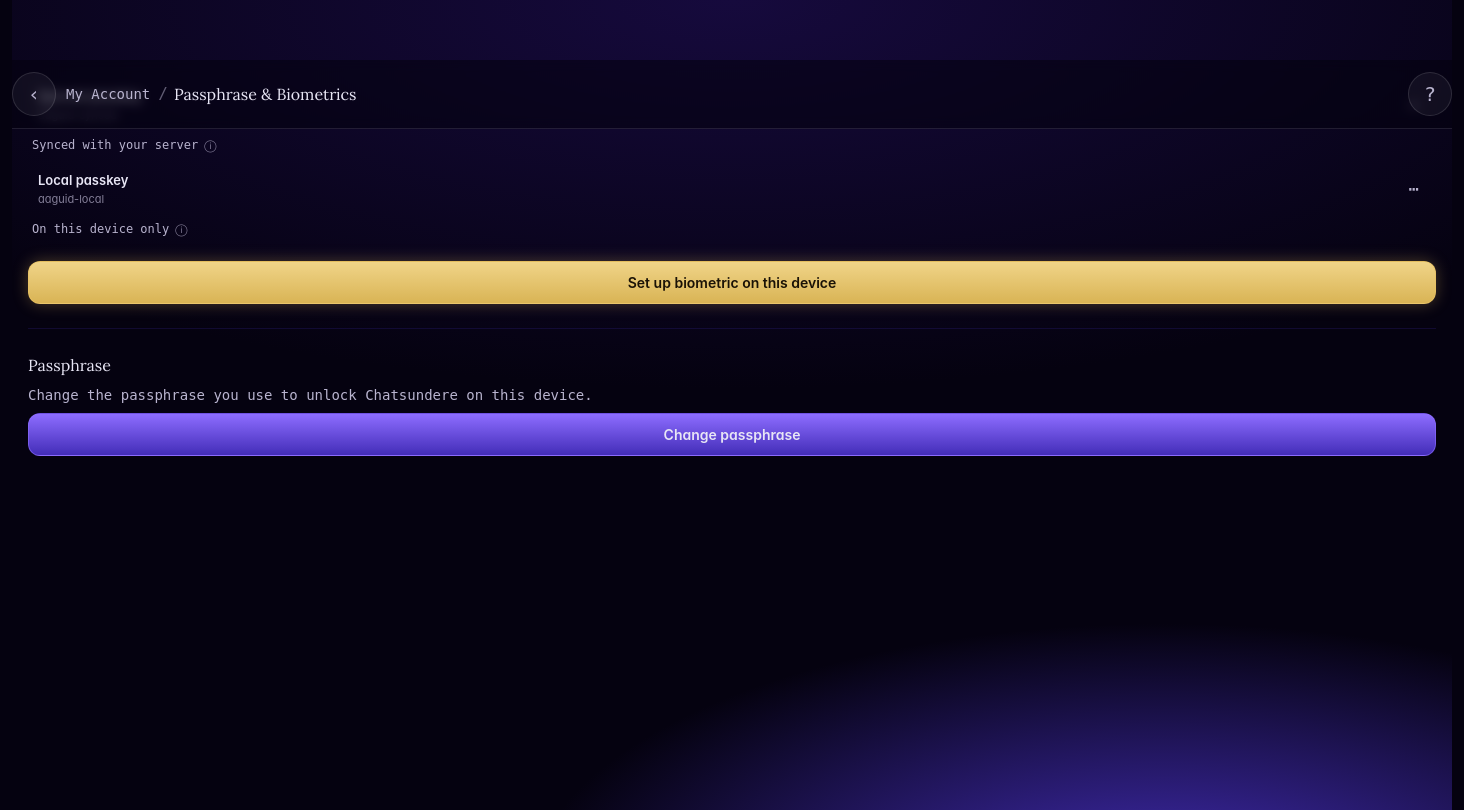
Test: BiometricPage sync markers › hides the sync captions until the info button is pressed
The image size is (1464, 810).
Expected: the text "Synced with your server" is shown, [32,137,198,153]
Click the button named "What does this mean?" at coordinates (210, 145), box [204,137,216,153]
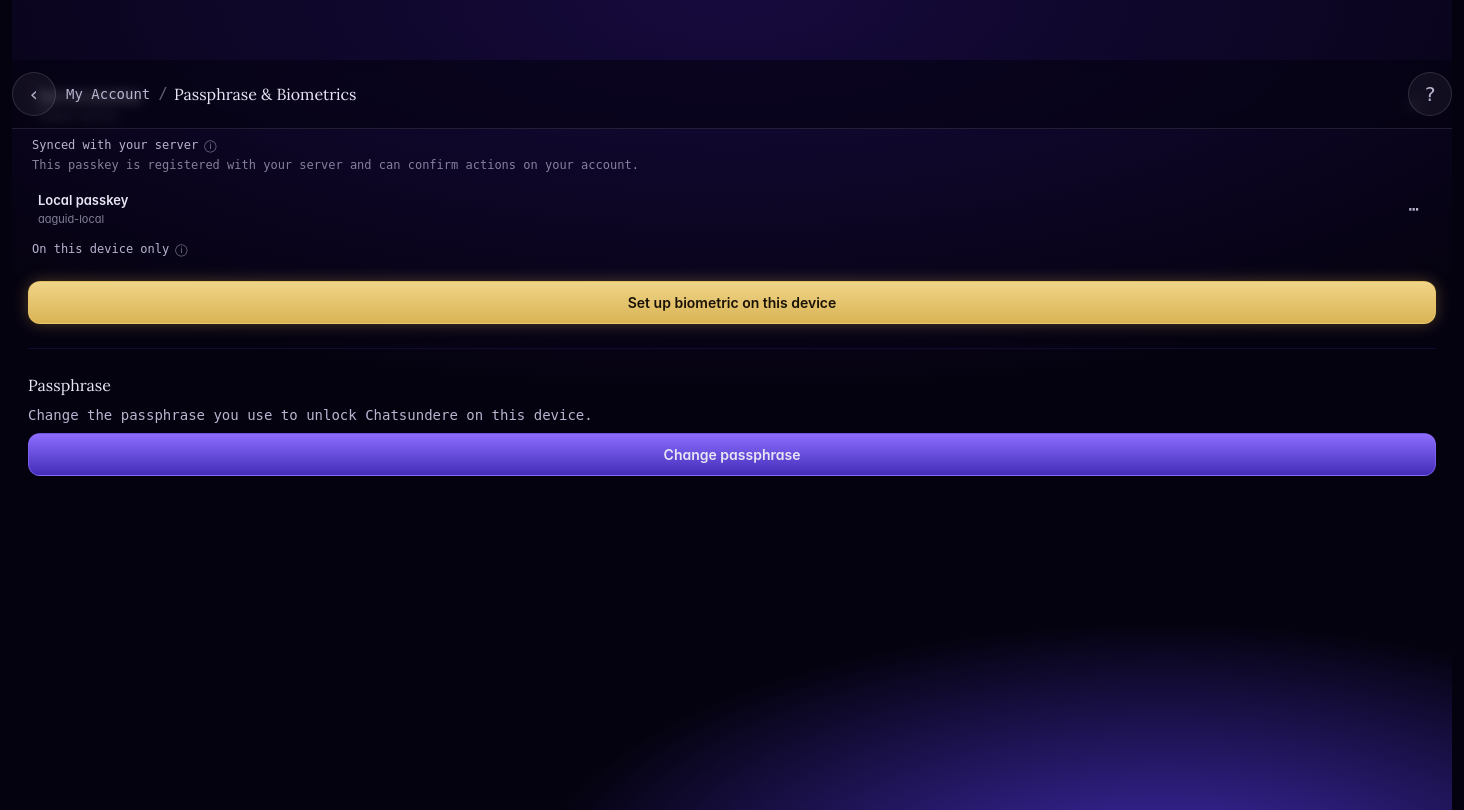
Expected: the text "This passkey is registered with your server and can confirm actions on your account." is shown, [32,158,639,172]
Click the button named "What does this mean?" at coordinates (181, 249), box [175,241,188,257]
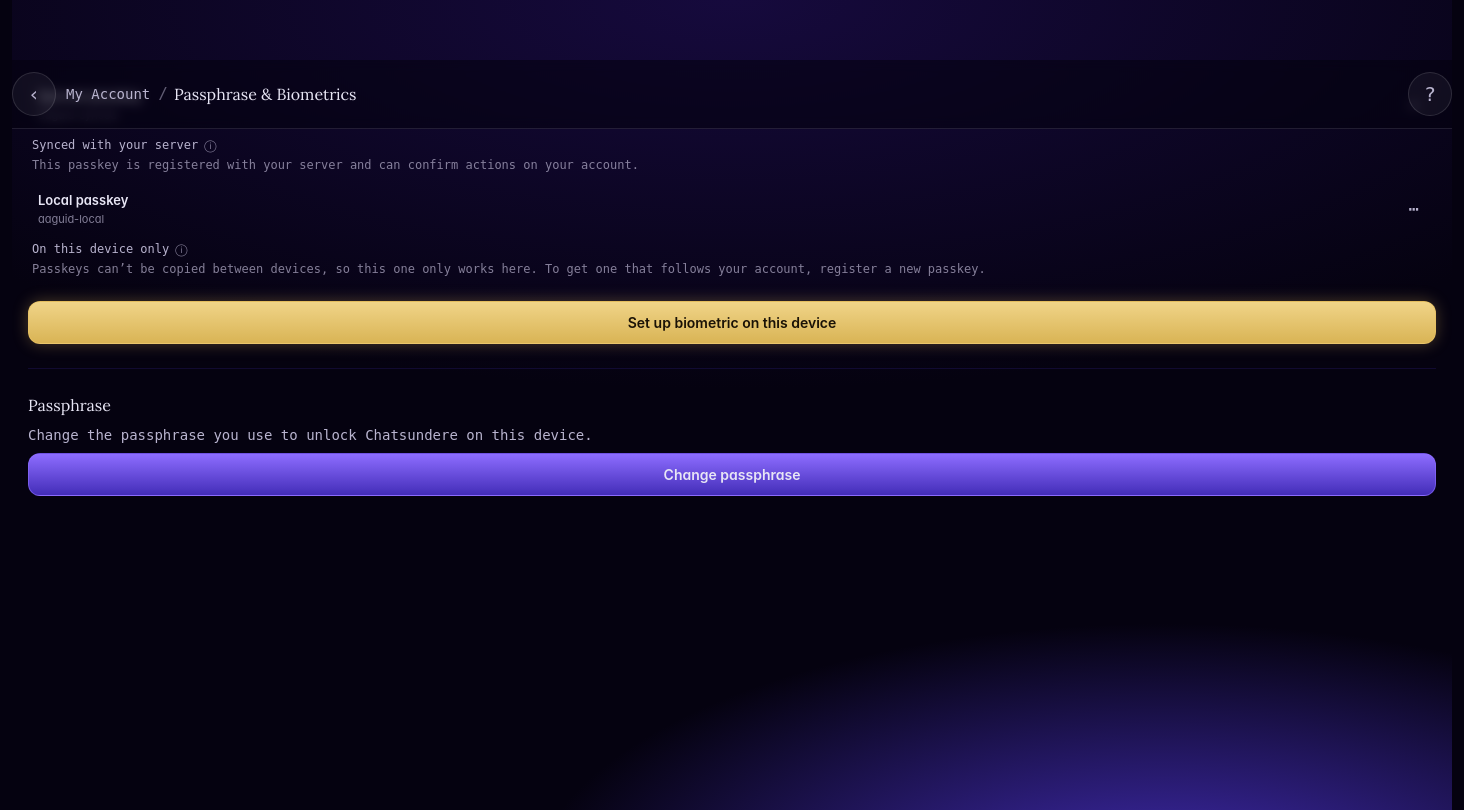
Expected: the text "Passkeys can’t be copied between devices, so this one only works here. To get one that follows your account, register a " is shown, [32,262,986,276]
